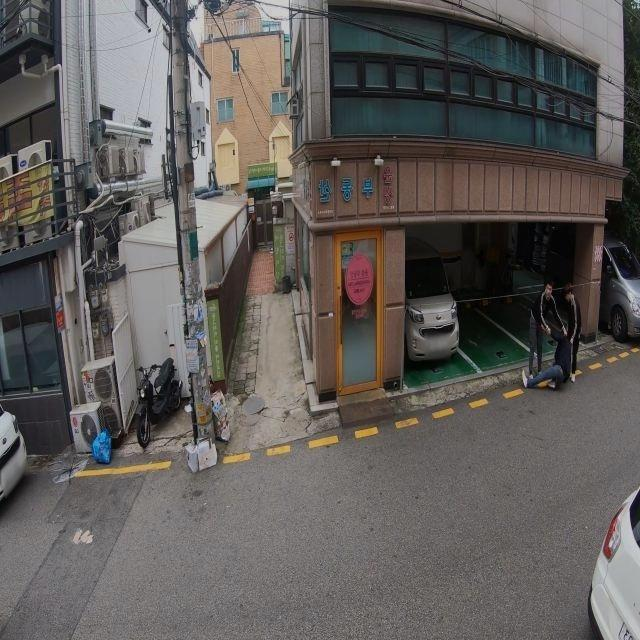fight: (523, 279, 581, 393)
